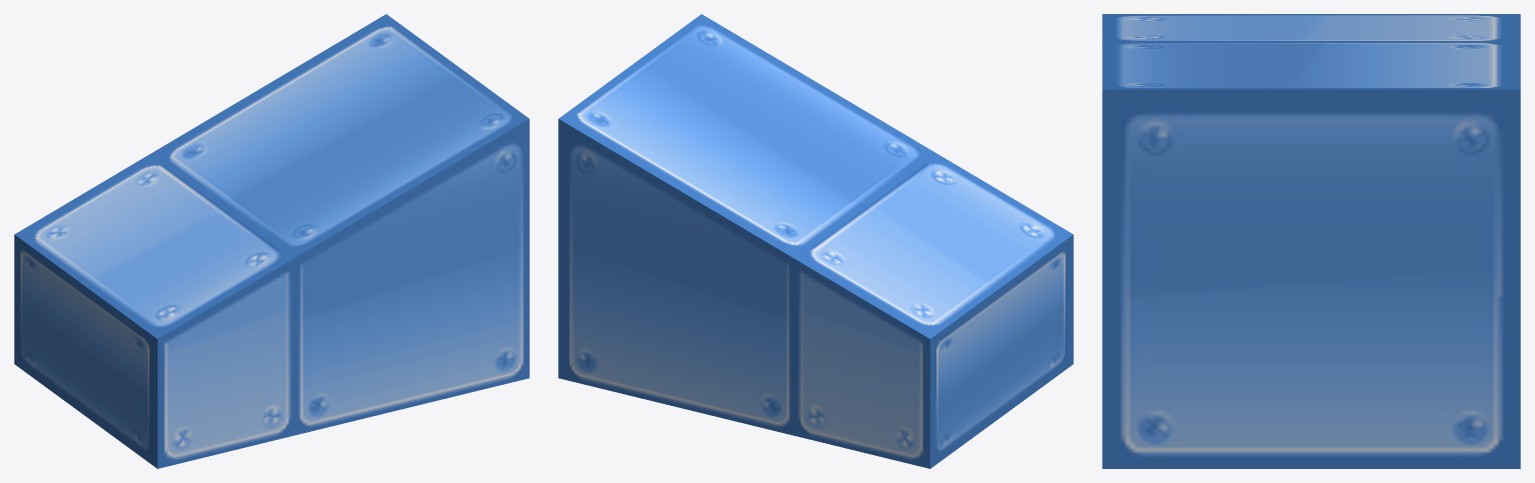
The model's file is slantedBlock2.FBX.
The picture shows the model from 3 angles, left to right: view 1: azimuth 30°, elevation 25°; view 2: azimuth 150°, elevation 25°; view 3: azimuth 270°, elevation 25°; orthographic projection. The views are drawn at different scales.
Visible parts, largest first — view 1: slantedBlock2; view 2: slantedBlock2; view 3: slantedBlock2.
Boxes of the visible parts, left/top/right/bottom form: slantedBlock2: left=14, top=14, right=529, bottom=468; slantedBlock2: left=558, top=14, right=1073, bottom=468; slantedBlock2: left=1102, top=14, right=1520, bottom=468.
Bounding box in the file's own units: 59.06 × 39.37 × 39.37.
Materials: 1 (1 with a texture image).
